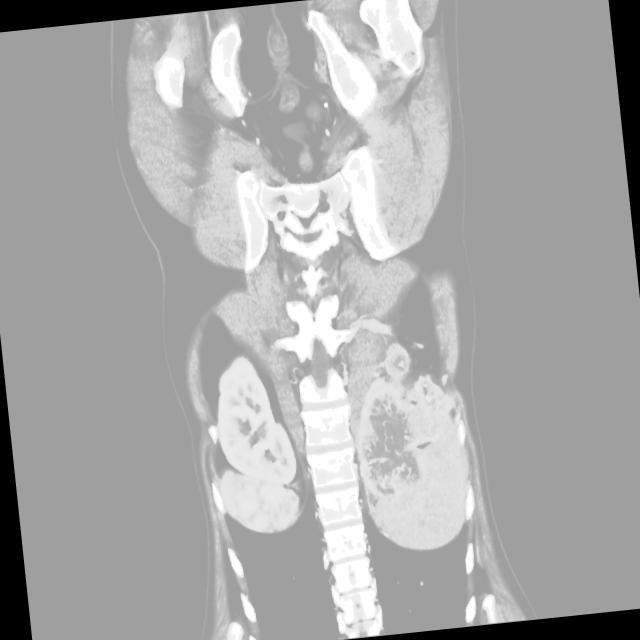TUMOR: (128, 284, 527, 566)
